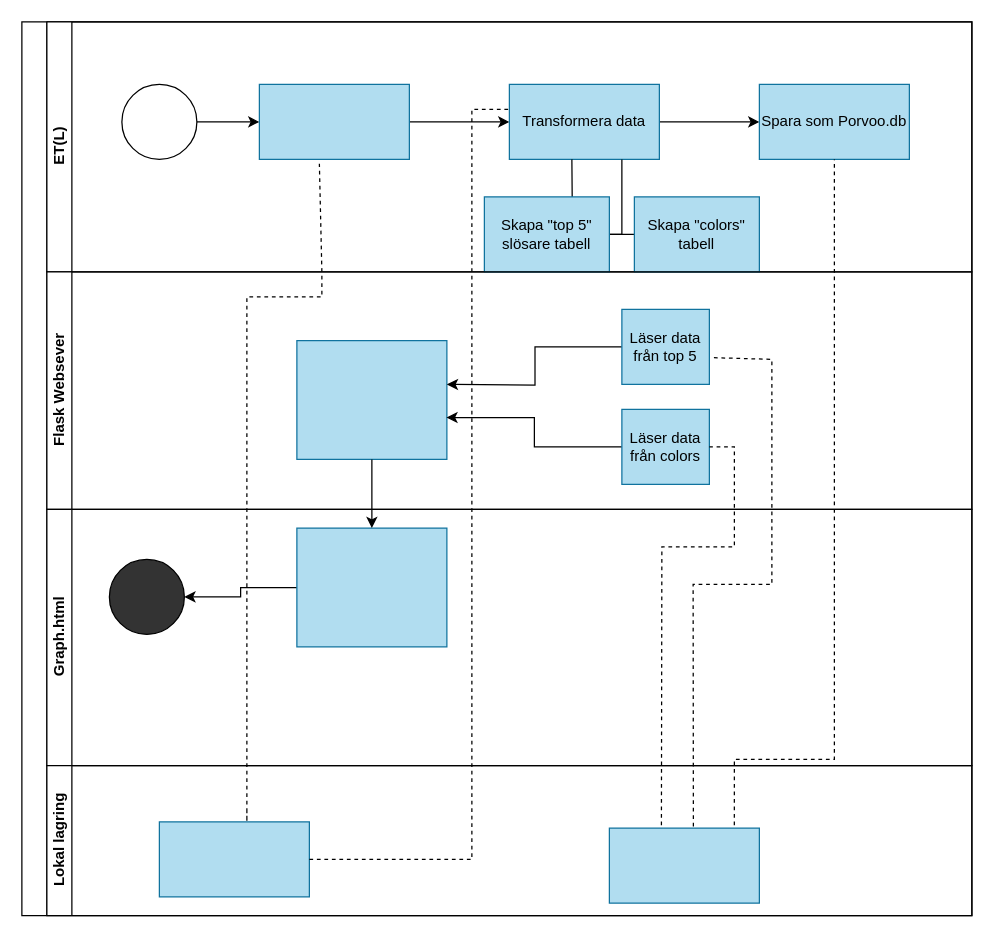
Some shapes in this 994 by 938 pixel diagram are drawn without their labels. The shapes that lost their labels are listed below. From the top down, each one's centre as x and y in pixels, then its label:
At (333,121): "Ladda ner CSV fil Avoin.fi".
At (371,399): "Render template får argumenten labels,values från top 5 och colors från colors".
At (371,587): "Chart.js gör en visuell representation av dataset (values,labels och colors)".
At (233,859): "Avoin.CSV".
At (683,865): "Porvoo.db".
